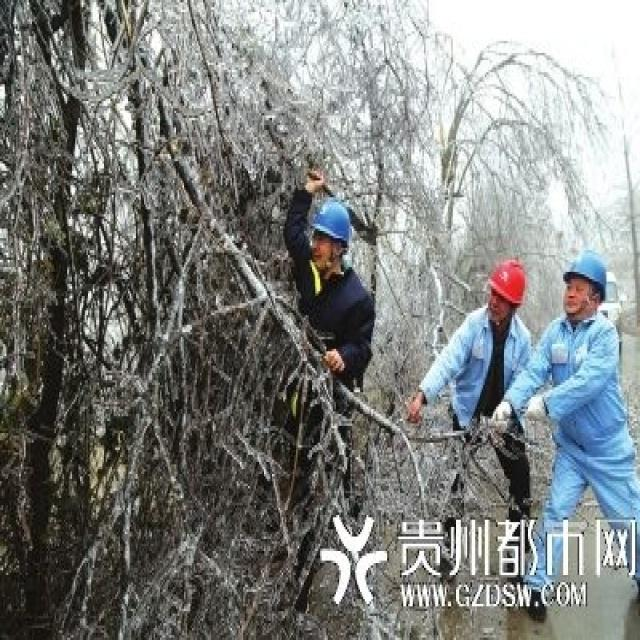helmet: (308, 260, 353, 363), (562, 331, 607, 426), (485, 344, 525, 433)
